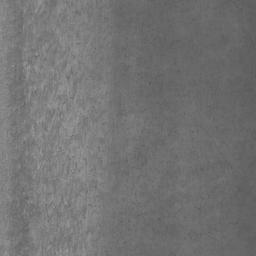Silk spot: (0, 0, 170, 256)
